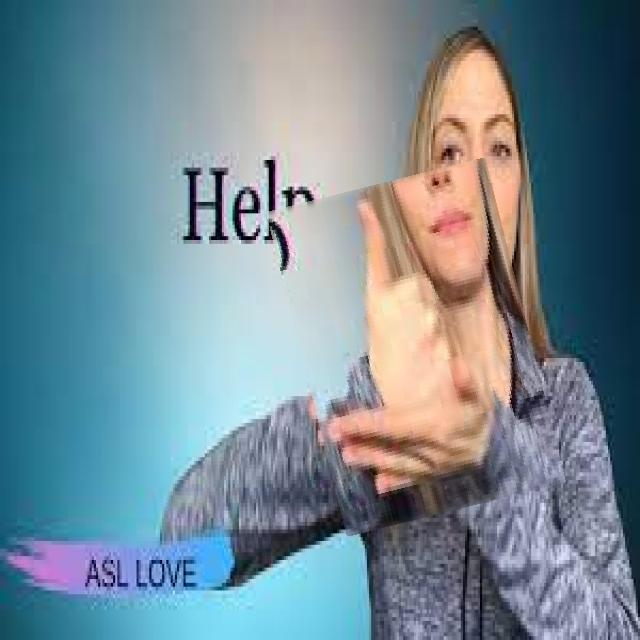Help: (284, 168, 548, 525)
